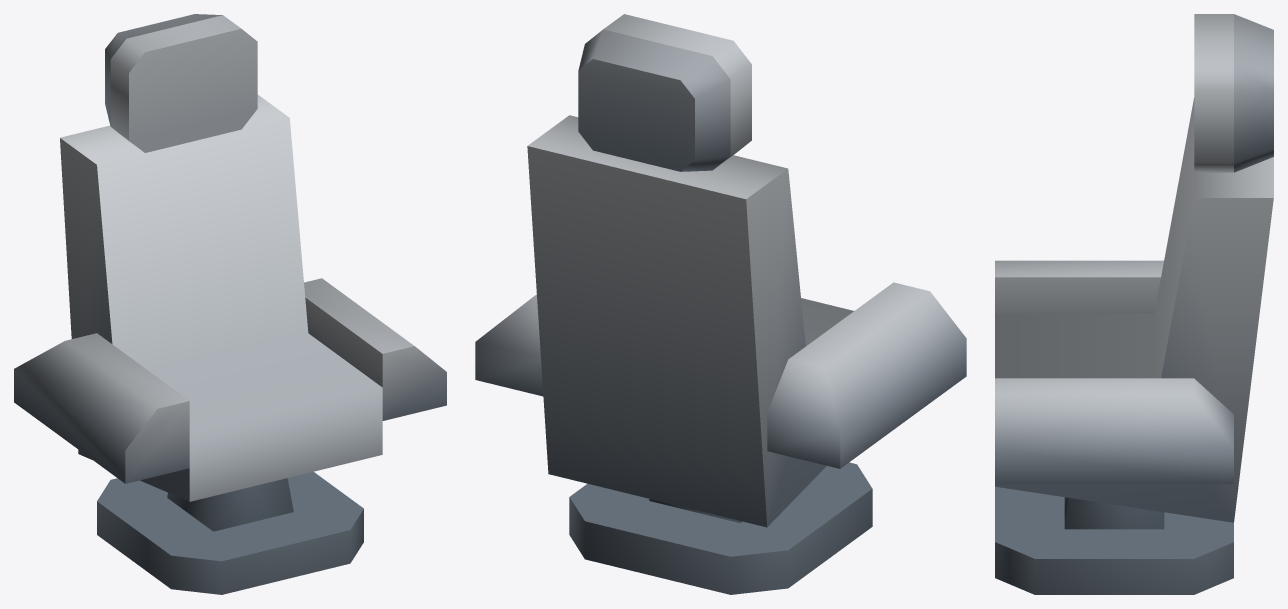
Rendered from chair-armrest-headrest.glb.
3 renders of one model, left to right at view 1: azimuth 30°, elevation 25°; view 2: azimuth 150°, elevation 25°; view 3: azimuth 270°, elevation 25°, orthographic. The views are drawn at different scales.
Parts seen in each view (by area): view 1: chair-armrest-headrest; view 2: chair-armrest-headrest; view 3: chair-armrest-headrest.
Part boxes in pixels (x1,y1,x2,y2): chair-armrest-headrest: (14,14,446,594); chair-armrest-headrest: (475,14,966,594); chair-armrest-headrest: (995,14,1273,594).
Bounding box in the file's own units: 0.5 × 0.7 × 0.3499.
